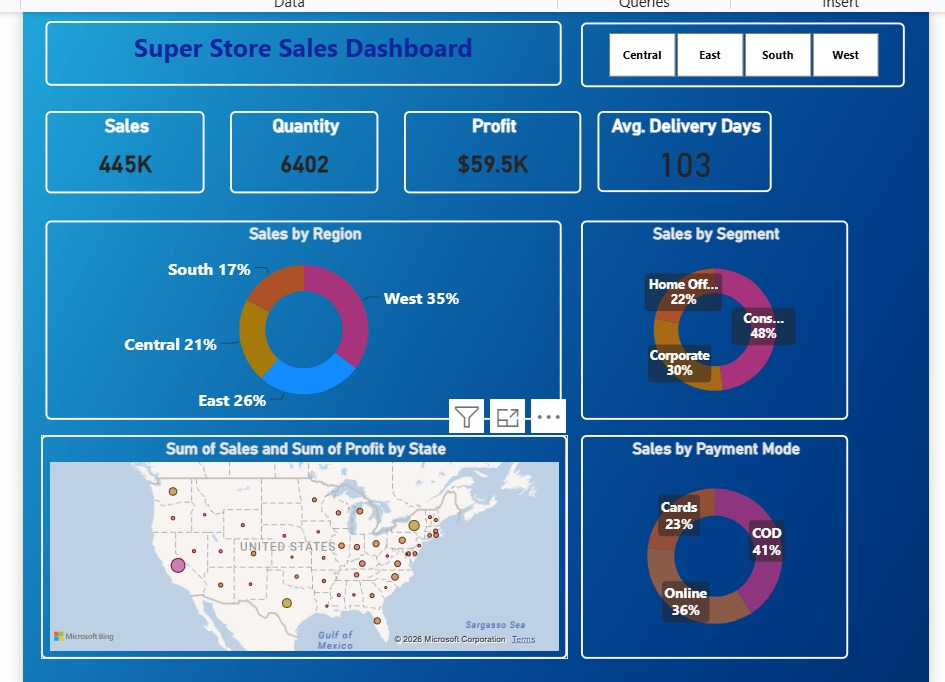

Layout of this report page (visuals, bound fields, positions):
{"tool":"powerbi","page":{"name":"Page 2","canvas":[960,720],"ordinal":1},"visuals":[{"type":"donutChart","title":" Sales by Payment Mode","fields":{"Category":["SuperStore_Sales_Dataset 2.Payment Mode"],"Y":["Sum(SuperStore_Sales_Dataset 2.Sales)"]},"box":[591.7,448.6,283.1,237],"z":0},{"type":"slicer","fields":{"Values":["SuperStore_Sales_Dataset 2.Region"]},"box":[591.7,11.1,343.6,68.4],"z":1000},{"type":"donutChart","title":" Sales by Region","fields":{"Y":["Sum(SuperStore_Sales_Dataset 2.Sales)"],"Category":["SuperStore_Sales_Dataset 2.Region"]},"box":[23.9,221.1,547.2,211.6],"z":2000},{"type":"donutChart","title":" Sales by Segment","fields":{"Category":["SuperStore_Sales_Dataset 2.Segment"],"Y":["Sum(SuperStore_Sales_Dataset 2.Sales)"]},"box":[591.7,221.1,283.1,211.6],"z":3000},{"type":"textbox","box":[23.9,9.5,547.2,68.4],"z":4000},{"type":"card","title":"Sales","fields":{"Values":["Sum(SuperStore_Sales_Dataset 2.Sales)"]},"box":[23.9,105,168.6,87.5],"z":5000},{"type":"card","title":"Profit","fields":{"Values":["Sum(SuperStore_Sales_Dataset 2.Profit)"]},"box":[404,105,187.7,87.5],"z":6000},{"type":"card","title":"Quantity","fields":{"Values":["Sum(SuperStore_Sales_Dataset 2.Quantity)"]},"box":[219.5,105,157.5,87.5],"z":7000},{"type":"card","title":"Avg. Delivery Days","fields":{"Values":["Avg(SuperStore_Sales_Dataset 2.AvgDelivery)"]},"box":[609.2,105,184.5,85.9],"z":8000},{"type":"map","fields":{"Category":["SuperStore_Sales_Dataset 2.State"],"Size":["Sum(SuperStore_Sales_Dataset 2.Sales)"]},"box":[19.1,448.6,558.3,237],"z":9000}]}

Visuals, with their boxes in screenshot pixels (x1, y1, x2, y2):
" Sales by Payment Mode" donutChart: 580, 431, 844, 652
slicer - SuperStore_Sales_Dataset 2.Region: 580, 23, 900, 87
" Sales by Region" donutChart: 49, 219, 560, 416
" Sales by Segment" donutChart: 580, 219, 844, 416
textbox: 49, 21, 560, 85
"Sales" card: 49, 110, 207, 192
"Profit" card: 404, 110, 580, 192
"Quantity" card: 232, 110, 379, 192
"Avg. Delivery Days" card: 596, 110, 768, 191
map - SuperStore_Sales_Dataset 2.State x Sum(SuperStore_Sales_Dataset 2.Sales): 45, 431, 566, 652
